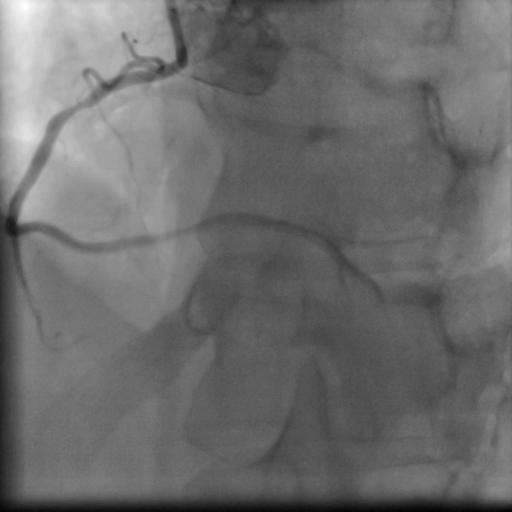Stenosis: (62, 90, 94, 113)
